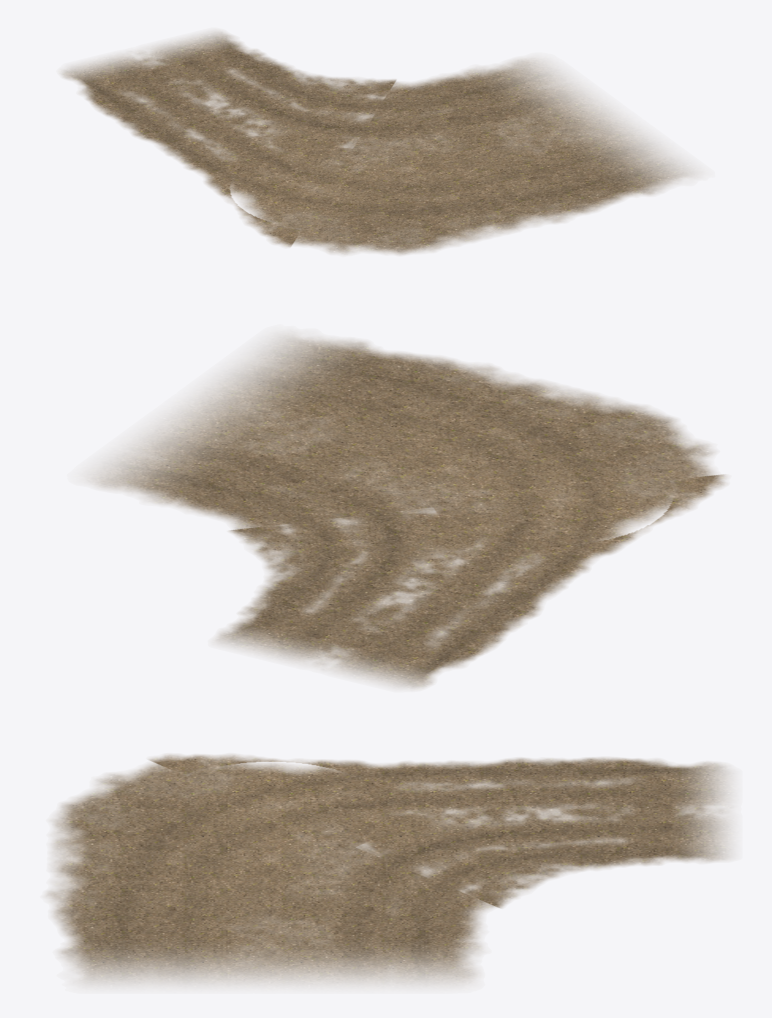
Rendered from road_bend_main_street.glb.
3 renders of one model, top to bottom at view 1: azimuth 30°, elevation 25°; view 2: azimuth 150°, elevation 25°; view 3: azimuth 270°, elevation 25°, orthographic. The views are drawn at different scales.
Visible parts, largest first — view 1: road_bend_main_street; view 2: road_bend_main_street; view 3: road_bend_main_street.
Boxes of the visible parts, x1,y1,x2,y2 form: road_bend_main_street: (61, 31, 695, 254); road_bend_main_street: (88, 334, 726, 688); road_bend_main_street: (46, 754, 730, 984).
Bounding box in the file's own units: 15.73 × 0 × 18.79.
1 material, 1 textured.
